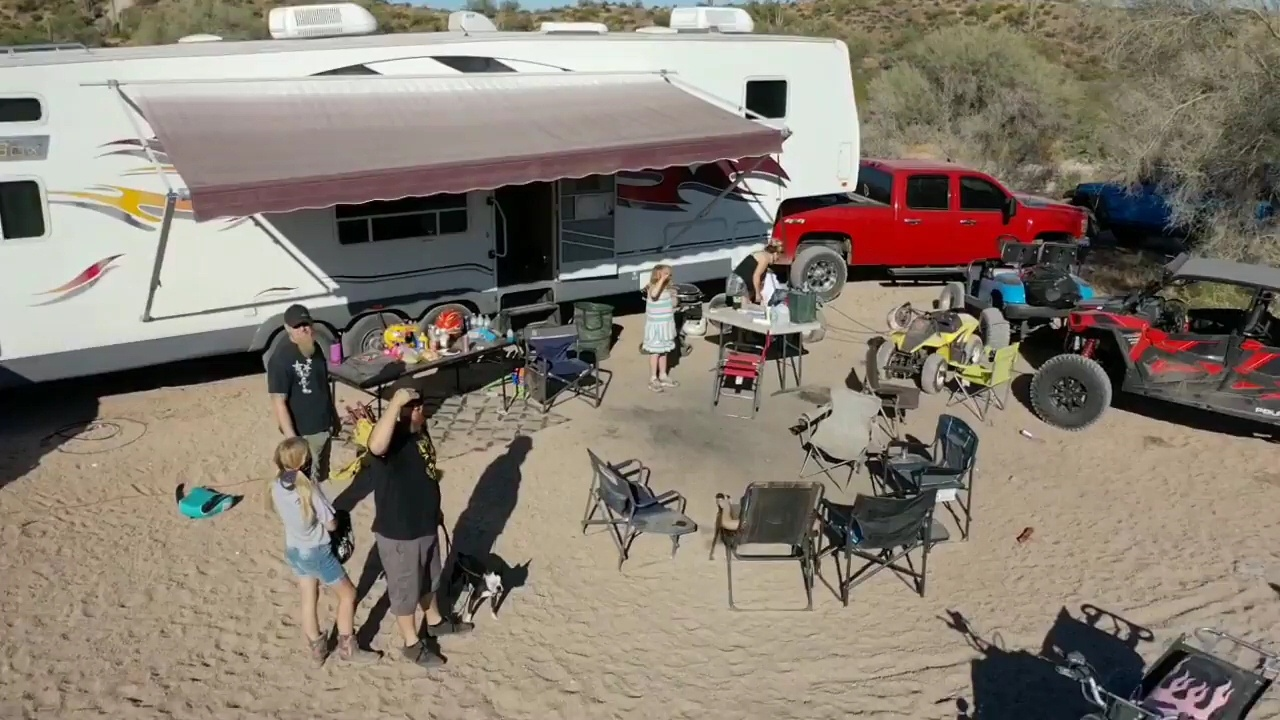insan: (379, 370, 465, 665), (285, 428, 379, 666), (271, 296, 339, 480), (719, 236, 787, 327), (637, 261, 682, 390)
kamyonet: (769, 159, 1095, 293)
